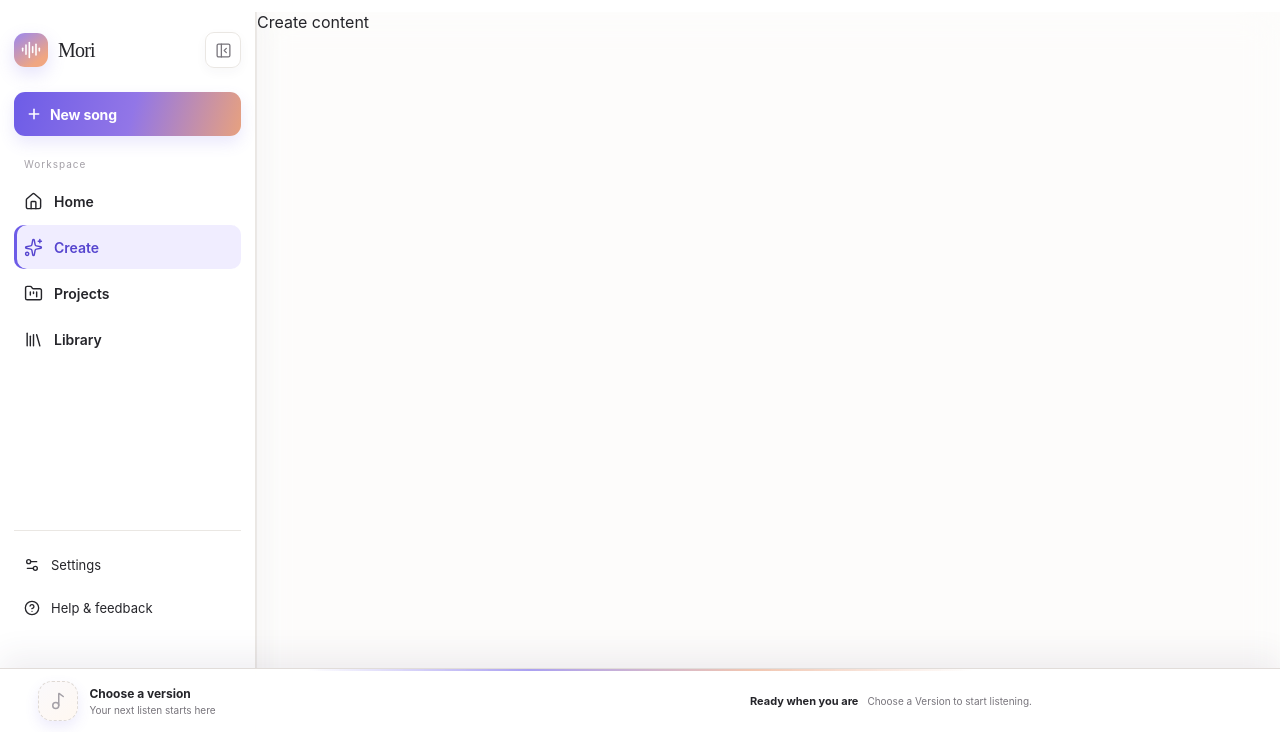
it: Mori application navigation › toggles the desktop rail without changing the current surface
The image size is (1280, 732).
Click the button named "Collapse sidebar".
click(223, 50)  # box 205,32 -> 241,68
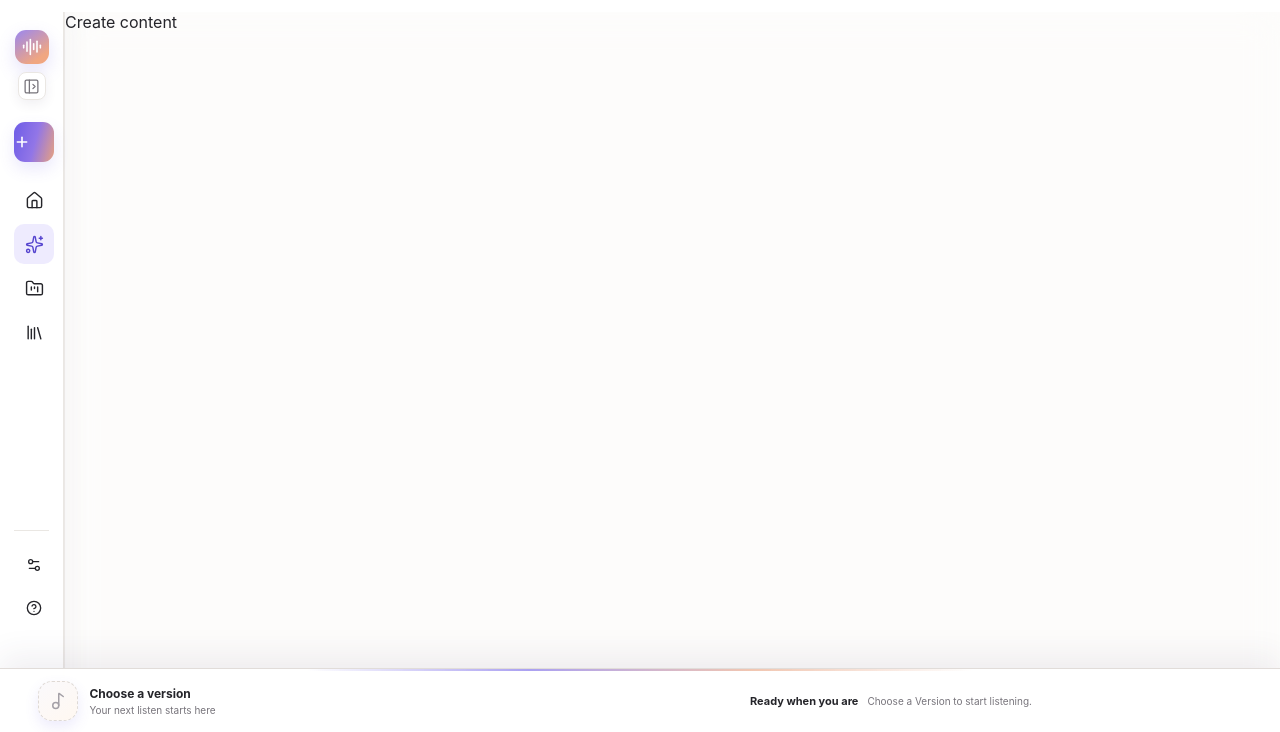
Expected: the button named "Expand sidebar" is shown, 18,72 -> 46,100
